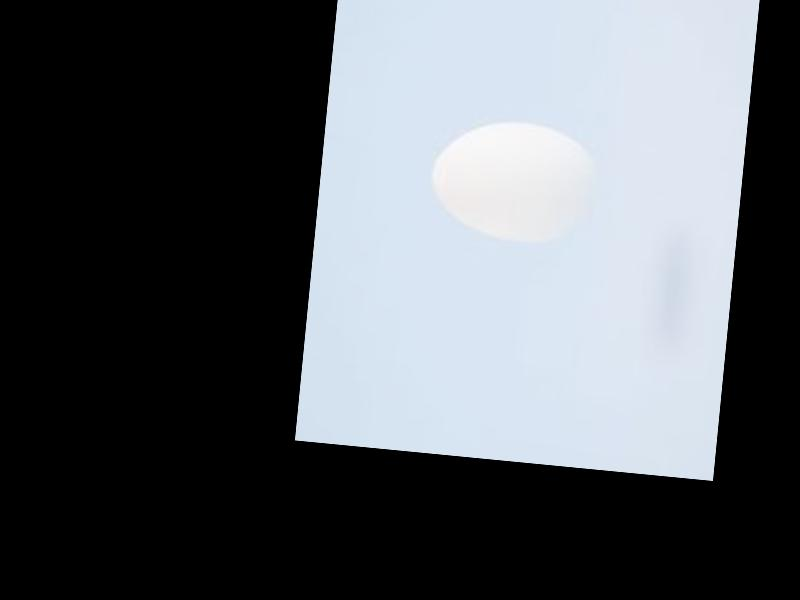Eggs: (426, 114, 604, 250)
